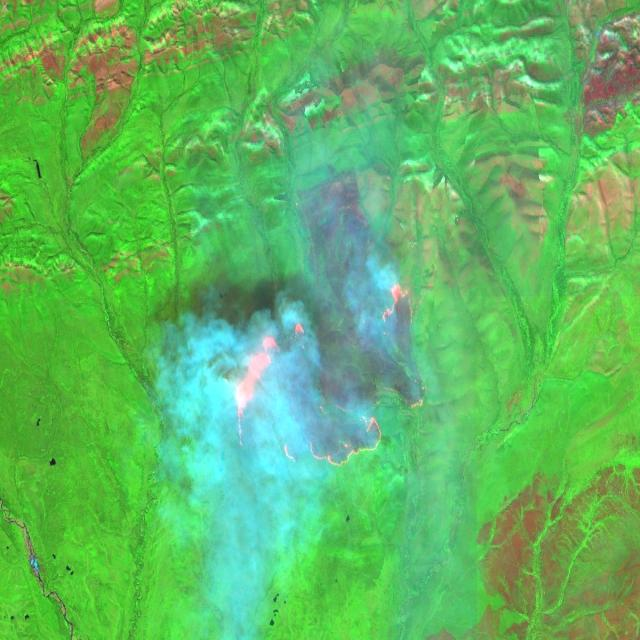fire: (228, 277, 431, 480)
